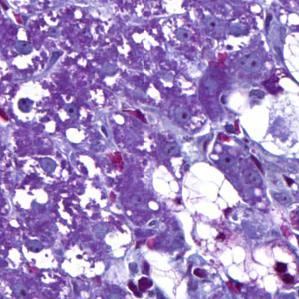ballooning: (149, 158, 245, 225), (214, 236, 295, 297)
